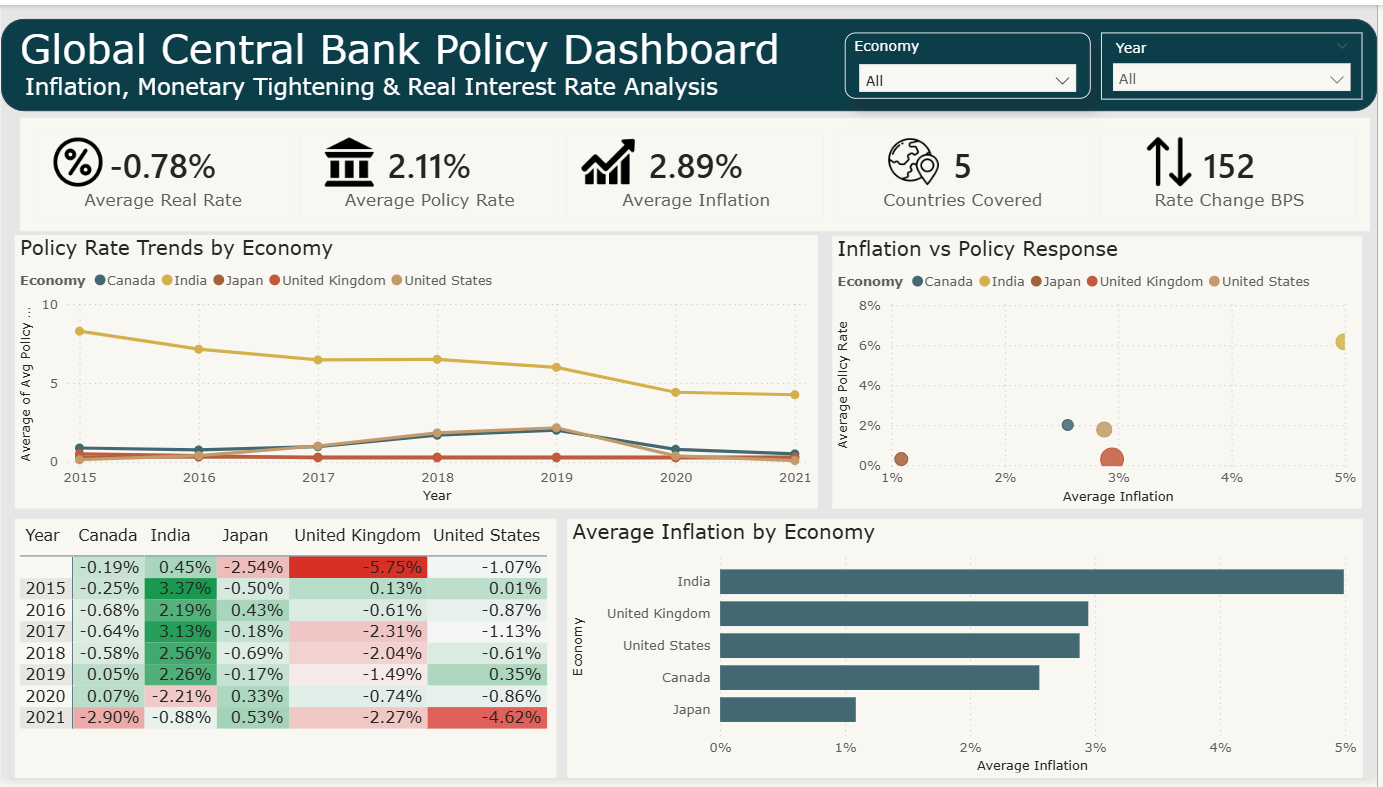

This screenshot's page, from the dashboard's own definition file:
{"tool":"powerbi","page":{"name":"Monetary Policy","canvas":[1280,720],"ordinal":0},"visuals":[{"type":"cardVisual","fields":{"Data":["DateTable.Average Real Rate","DateTable.Average Inflation","DateTable.Countries Covered","DateTable.Average Policy Rate","DateTable.Rate Change BPS"]},"box":[13.2,99.7,1266.8,115.3],"z":0},{"type":"shape","box":[0,12.8,1280.2,86],"z":1000},{"type":"slicer","title":"Economy","fields":{"Values":["Fact_Macro.Economy"]},"box":[784.9,25.6,229.1,61.6],"z":2000},{"type":"textbox","box":[13.2,13.2,734.9,55.2],"z":3000},{"type":"textbox","box":[18,56.4,678.4,43.2],"z":4000},{"type":"slicer","fields":{"Values":["DateTable.Year"]},"box":[1023.3,25.6,243,62.8],"z":5000},{"type":"image","box":[1064,131.4,54.7,39.5],"z":6000},{"type":"image","box":[302.3,120.9,45.3,50],"z":7000},{"type":"image","box":[64,120.9,45.3,50],"z":8000},{"type":"image","box":[566.3,120.9,53.5,50],"z":9000},{"type":"lineChart","title":"Policy Rate Trends by Economy","fields":{"Y":["Avg(Fact_Macro.Avg Policy Rate)"],"Series":["Fact_Macro.Economy"],"Category":["DateTable.Year"]},"box":[13.2,213.7,746.9,254.6],"z":10000},{"type":"scatterChart","title":"Inflation vs Policy Response","fields":{"X":["DateTable.Average Inflation"],"Series":["Fact_Macro.Economy"],"Size":["DateTable.Bubble Size"],"Y":["DateTable.Average Policy Rate"]},"box":[768.6,215.1,497.7,253.5],"z":11000},{"type":"clusteredBarChart","fields":{"Category":["Fact_Macro.Economy"],"Y":["DateTable.Average Inflation"]},"box":[527.1,477.9,739.7,241.4],"z":12000},{"type":"pivotTable","fields":{"Rows":["DateTable.Year"],"Values":["DateTable.Average Real Rate"],"Columns":["Fact_Macro.Economy"]},"box":[13.2,477.9,504.3,242.6],"z":13000},{"type":"image","box":[810.5,122.1,58.1,50],"z":14000}]}

Visuals, with their boxes in screenshot pixels (x1, y1, x2, y2), scaled from the page's 1280x720 canvas onto the 1383x787 screenshot:
cardVisual - DateTable.Average Real Rate x DateTable.Average Inflation: crop(14, 109, 1382, 235)
shape: crop(0, 14, 1382, 108)
"Economy" slicer: crop(848, 28, 1096, 95)
textbox: crop(14, 14, 808, 75)
textbox: crop(19, 62, 752, 109)
slicer - DateTable.Year: crop(1106, 28, 1368, 97)
image: crop(1150, 144, 1209, 187)
image: crop(327, 132, 376, 187)
image: crop(69, 132, 118, 187)
image: crop(612, 132, 670, 187)
"Policy Rate Trends by Economy" lineChart: crop(14, 234, 821, 512)
"Inflation vs Policy Response" scatterChart: crop(830, 235, 1368, 512)
clusteredBarChart - Fact_Macro.Economy x DateTable.Average Inflation: crop(570, 522, 1369, 786)
pivotTable - DateTable.Year x DateTable.Average Real Rate: crop(14, 522, 559, 786)
image: crop(876, 133, 938, 188)
